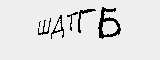Б: (98, 6, 128, 41)
Г: (76, 5, 99, 37)
Д: (49, 14, 65, 39)
Т: (66, 10, 79, 34)
Ш: (34, 16, 51, 36)
